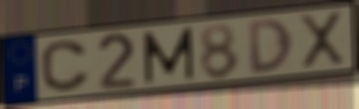2: (98, 31, 137, 90)
8: (198, 21, 241, 80)
C: (38, 39, 92, 94)
D: (246, 17, 296, 76)
M: (141, 25, 196, 86)
X: (296, 10, 348, 72)
